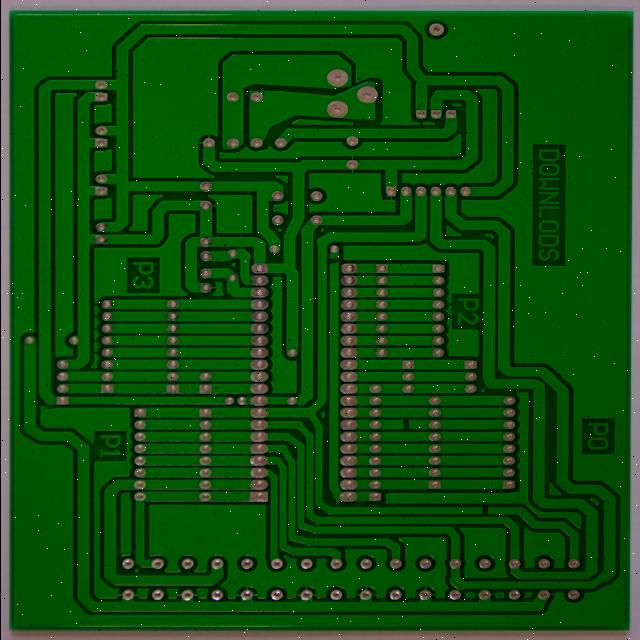open_circuit: (431, 405, 447, 420), (518, 497, 532, 510), (354, 234, 369, 246)
